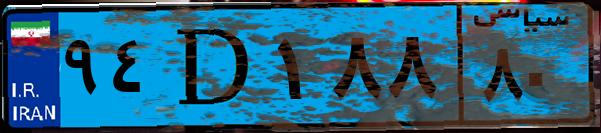0: (525, 38, 570, 115)
1: (270, 28, 330, 110)
4: (110, 28, 158, 98)
8: (385, 28, 445, 110), (330, 28, 385, 110), (475, 38, 525, 113)
9: (57, 26, 110, 100)
D: (158, 12, 270, 120)
